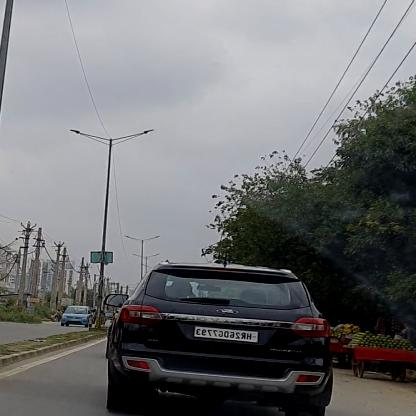car: (100, 262, 334, 416), (58, 306, 93, 328)
